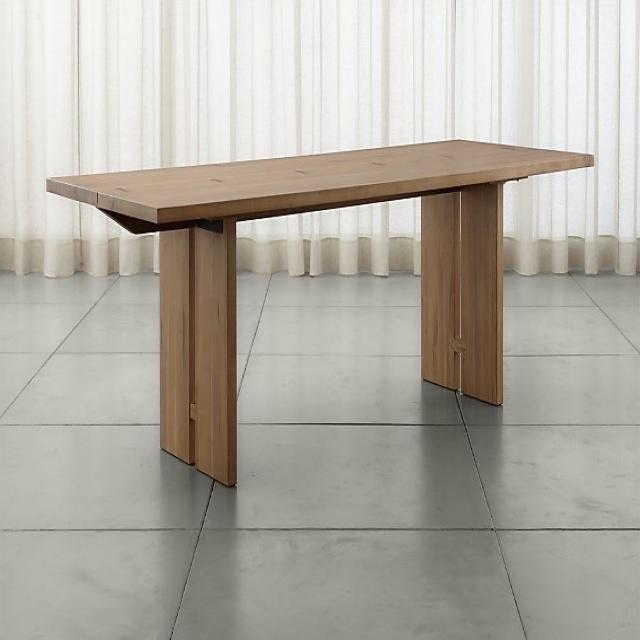table: (23, 98, 620, 518)
